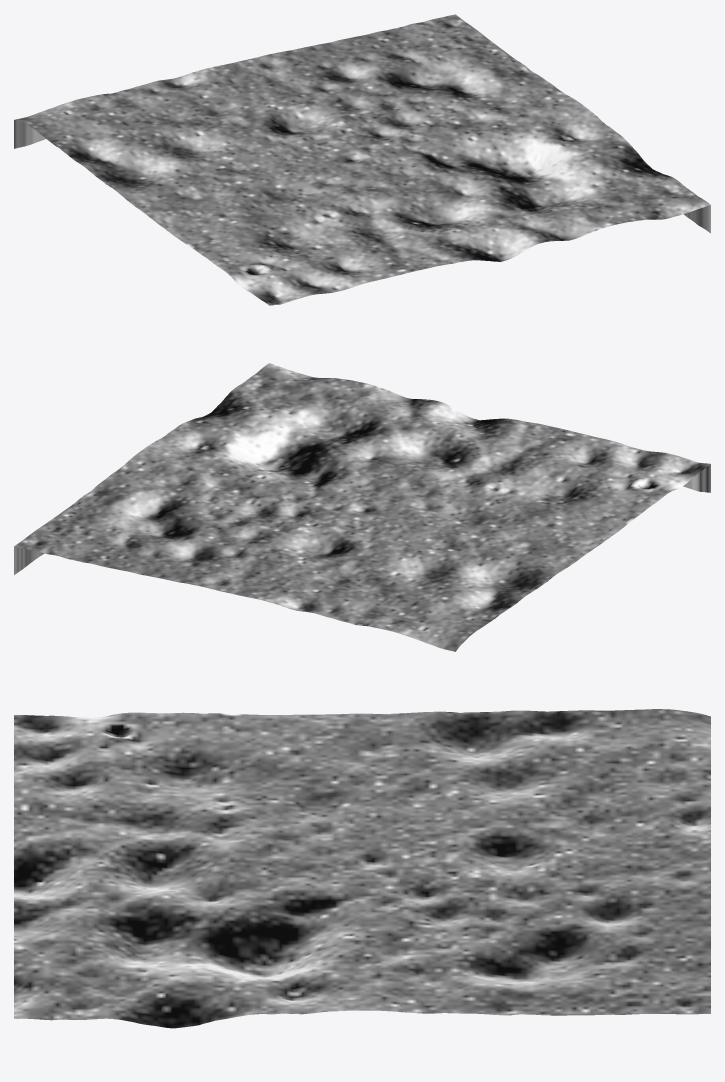
3 renders of one model, top to bottom at view 1: azimuth 30°, elevation 25°; view 2: azimuth 150°, elevation 25°; view 3: azimuth 270°, elevation 25°, orthographic. The views are drawn at different scales.
Size of the model in its own units: 1277 by 131 by 1278.
1 material, 1 textured.
